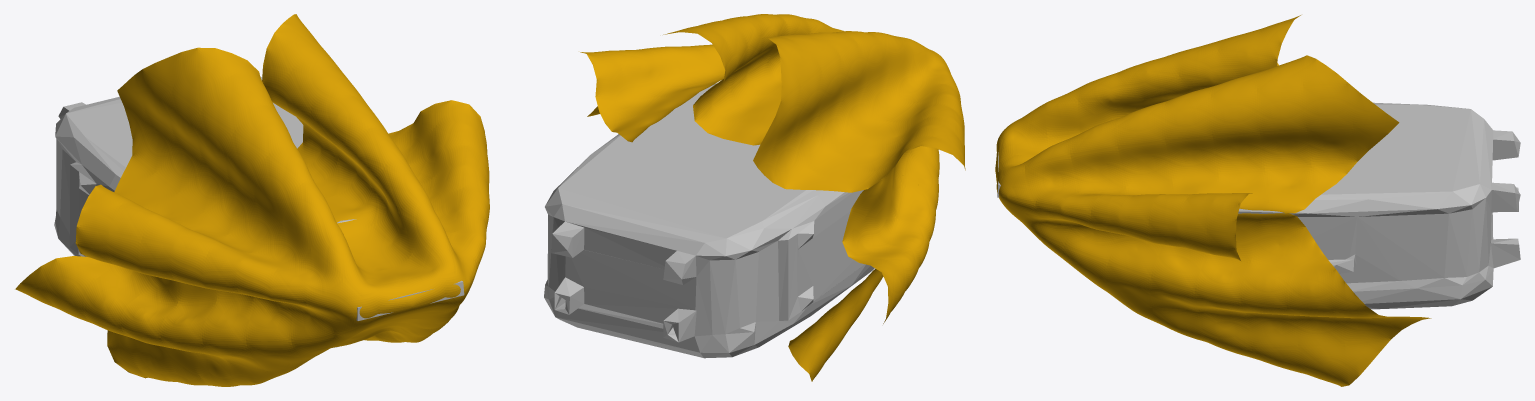
Rendered from drapenet.glb.
The picture shows the model from 3 angles, left to right: view 1: azimuth 30°, elevation 25°; view 2: azimuth 150°, elevation 25°; view 3: azimuth 270°, elevation 25°; orthographic projection. The views are drawn at different scales.
Parts seen in each view (by area): view 1: level_4.ply, object.obj; view 2: level_4.ply, object.obj; view 3: level_4.ply, object.obj.
Boxes of the visible parts, x1,y1,x2,y2 form: level_4.ply: [15, 14, 489, 386]; object.obj: [54, 76, 464, 347]; level_4.ply: [580, 14, 965, 381]; object.obj: [544, 83, 874, 358]; level_4.ply: [995, 15, 1431, 386]; object.obj: [997, 102, 1520, 309].
Bounding box in the file's own units: 0.3604 × 0.2786 × 0.4338.
